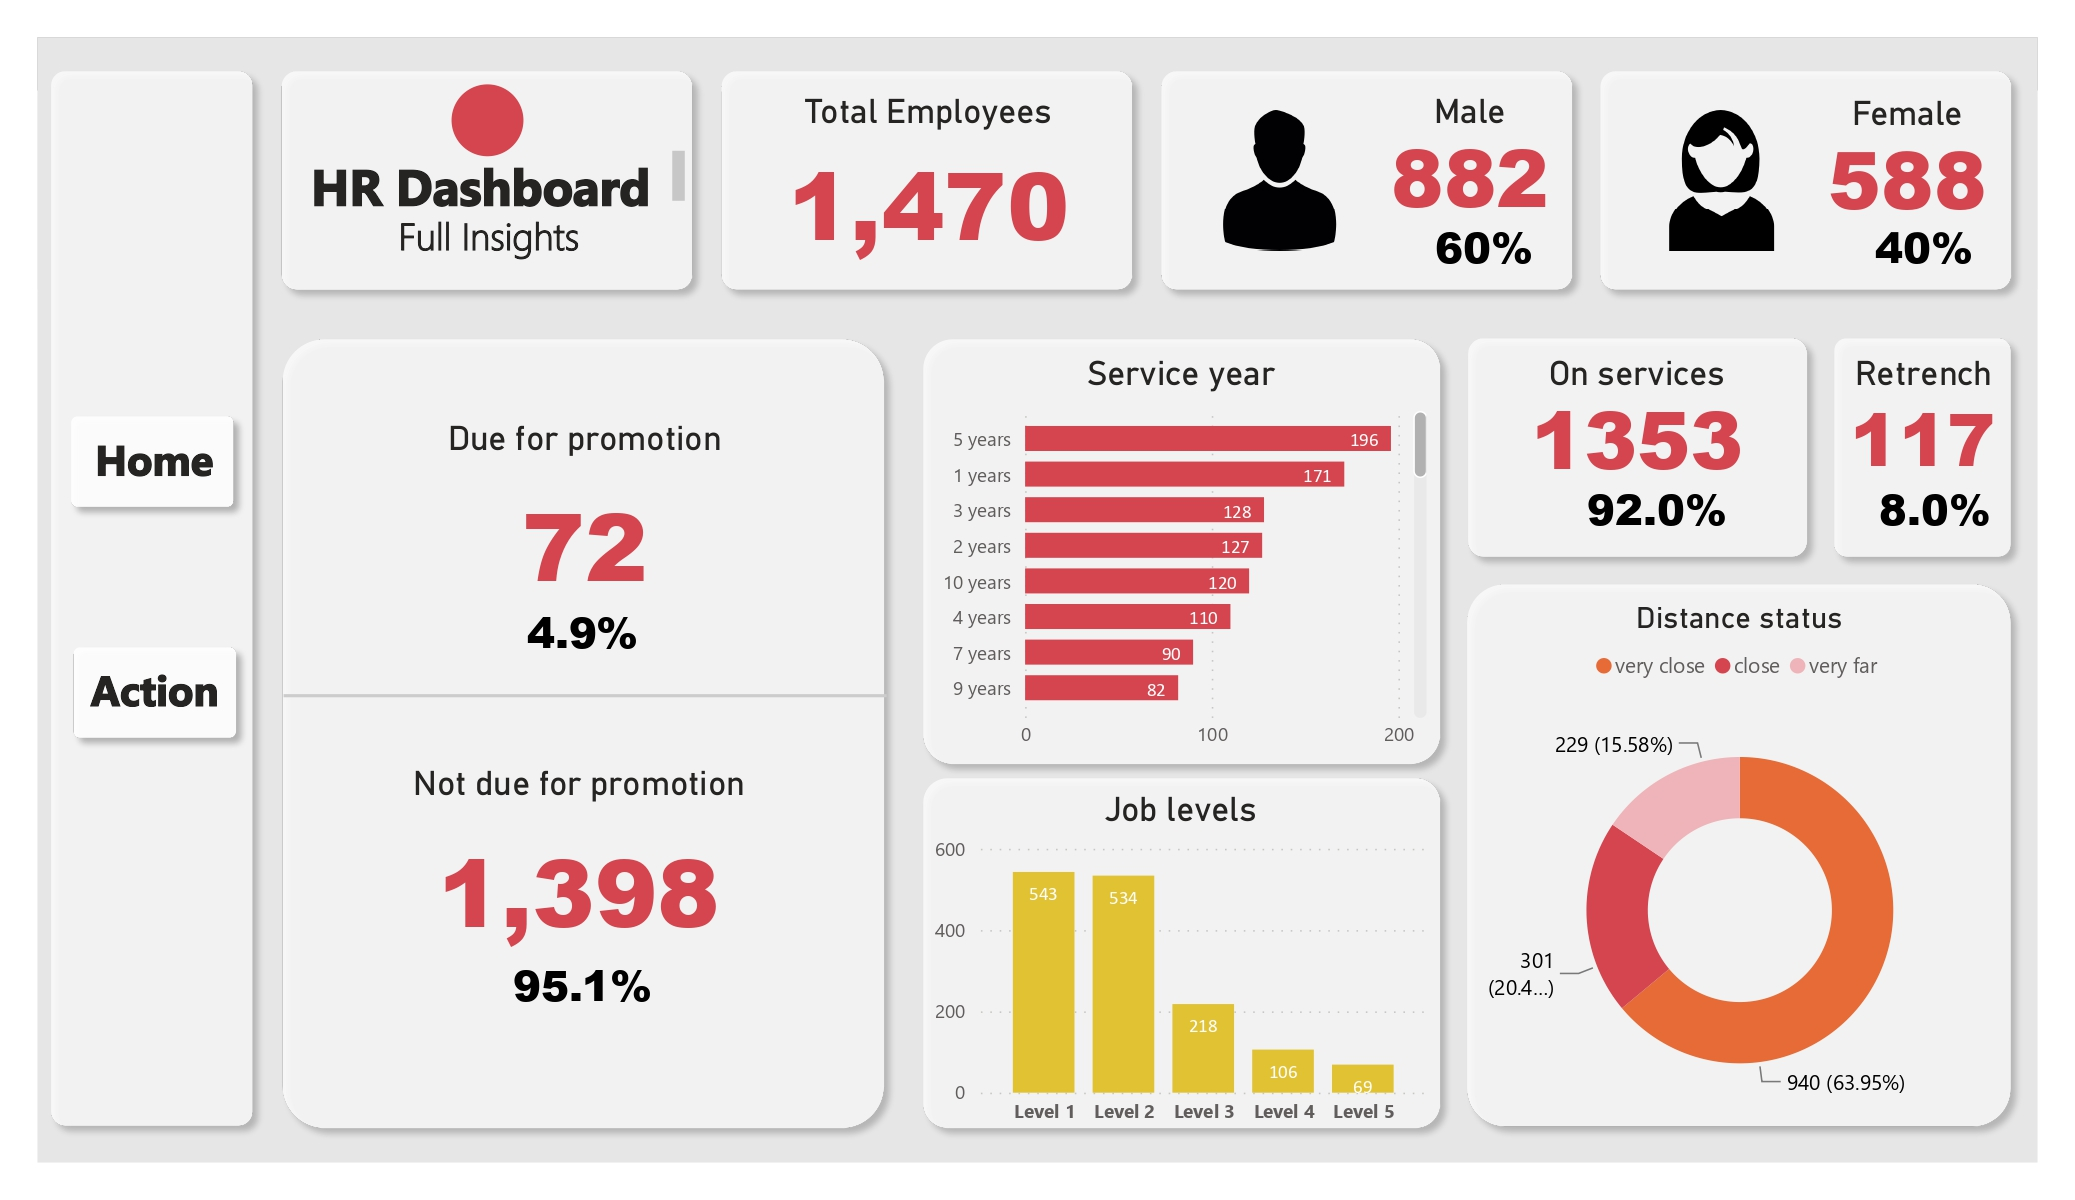

This screenshot's page, from the dashboard's own definition file:
{"tool":"powerbi","page":{"name":"Action","canvas":[1280,720],"ordinal":1},"visuals":[{"type":"shape","box":[0,12.5,148.8,692.5],"z":0},{"type":"shape","box":[12.1,234,121.8,76],"z":1000},{"type":"shape","box":[13.3,381.1,121.8,76],"z":2000},{"type":"shape","box":[147.8,12.2,281.1,157.8],"z":3000},{"type":"shape","box":[428.8,12.5,281.2,157.5],"z":4000},{"type":"shape","box":[710,12.5,281.2,157.5],"z":5000},{"type":"shape","box":[991.2,12.5,281.2,157.5],"z":6000},{"type":"textbox","box":[156.7,67.8,262.8,47.2],"z":7000},{"type":"textbox","box":[157.3,105.5,262.7,46.4],"z":8000},{"type":"shape","box":[264.5,30,46.4,46.4],"z":9000},{"type":"card","title":"Total Employees","fields":{"Values":["All Measures.Total Emp"]},"box":[438.1,35,262.5,112.5],"z":10000},{"type":"card","title":"Male","fields":{"Values":["All Measures.Male"]},"box":[851,35,131,80],"z":11000},{"type":"card","title":"Male","fields":{"Values":["All Measures.% male"]},"box":[860,95,131,80],"z":12000},{"type":"card","title":"Male","fields":{"Values":["All Measures.% female"]},"box":[1141.5,95.4,131.5,80],"z":13000},{"type":"card","title":"Female","fields":{"Values":["All Measures.Female"]},"box":[1131.5,36.2,130.8,80],"z":14000},{"type":"image","box":[740,41.4,110,100],"z":15000},{"type":"image","box":[1024,41,108,100],"z":16000},{"type":"shape","box":[148.3,170.1,492.1,535.5],"z":17000},{"type":"columnChart","fields":{"Category":["HR Analytics Data.Department"],"Y":["All Measures.Retrench","All Measures.Due for promotion"]},"box":[170.1,188.1,332.9,505.3],"z":18000},{"type":"shape","box":[653.7,174.9,299.1,234],"z":19000},{"type":"shape","box":[969.6,174.9,309.9,234],"z":20000},{"type":"columnChart","fields":{"Category":["HR Analytics Data.Job satisfaction"],"Y":["All Measures.Total Emp"]},"box":[665.7,188.1,275,206.2],"z":21000},{"type":"pieChart","fields":{"Category":["HR Analytics Data.OverTime"],"Y":["All Measures.Total Emp"]},"box":[981.7,188.1,291.9,206.2],"z":22000},{"type":"tableEx","fields":{"Values":["HR Analytics Data.JobRole","All Measures.Total Emp","All Measures.Retrench","All Measures.Due for promotion"]},"box":[665.7,408.8,607.8,296.7],"z":23000},{"type":"textbox","box":[13.3,394.2,122.5,57.5],"z":25000},{"type":"textbox","box":[13.8,245.6,121.9,52.5],"z":26000},{"type":"actionButton","box":[23.8,252.5,100,40],"z":26001}]}

Visuals, with their boxes in screenshot pixels (x1, y1, x2, y2):
shape: select_region(38, 57, 270, 1139)
shape: select_region(56, 403, 247, 522)
shape: select_region(58, 633, 249, 752)
shape: select_region(268, 57, 708, 303)
shape: select_region(708, 57, 1147, 303)
shape: select_region(1147, 57, 1586, 303)
shape: select_region(1586, 57, 2026, 303)
textbox: select_region(282, 143, 693, 217)
textbox: select_region(283, 202, 694, 275)
shape: select_region(451, 84, 523, 157)
"Total Employees" card: select_region(722, 92, 1132, 268)
"Male" card: select_region(1367, 92, 1572, 217)
"Male" card: select_region(1381, 186, 1586, 311)
"Male" card: select_region(1821, 187, 2027, 312)
"Female" card: select_region(1805, 94, 2010, 219)
image: select_region(1194, 102, 1366, 258)
image: select_region(1638, 102, 1806, 258)
shape: select_region(269, 303, 1038, 1140)
columnChart - HR Analytics Data.Department x All Measures.Retrench: select_region(303, 331, 823, 1121)
shape: select_region(1059, 311, 1526, 676)
shape: select_region(1552, 311, 2037, 676)
columnChart - HR Analytics Data.Job satisfaction x All Measures.Total Emp: select_region(1078, 331, 1507, 654)
pieChart - HR Analytics Data.OverTime x All Measures.Total Emp: select_region(1571, 331, 2027, 654)
tableEx - HR Analytics Data.JobRole x All Measures.Total Emp: select_region(1078, 676, 2027, 1140)
textbox: select_region(58, 653, 250, 743)
textbox: select_region(59, 421, 250, 503)
actionButton: select_region(75, 432, 231, 495)
